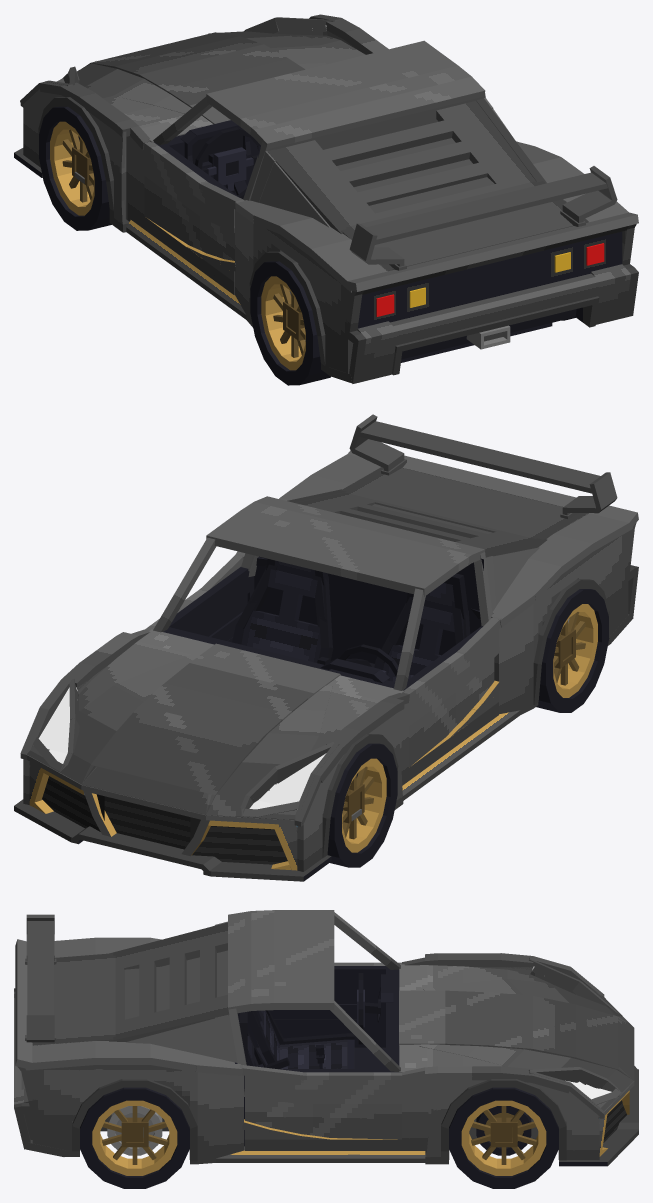
3 views of the same model, one above another, from view 1: azimuth 30°, elevation 25°; view 2: azimuth 150°, elevation 25°; view 3: azimuth 270°, elevation 25° (orthographic). The views are drawn at different scales.
Visible parts, largest first — view 1: min (×55), rightdoor (×5); view 2: min (×66), rightdoor (×5), leftdoor (×2); view 3: min (×66), leftdoor (×7), rightdoor (×4).
Boxes of the visible parts, <box> form: min (×55): <box>23,17,638,383</box>; rightdoor (×5): <box>144,141,234,290</box>; min (×66): <box>14,421,638,881</box>; rightdoor (×5): <box>403,629,498,775</box>; leftdoor (×2): <box>176,567,249,636</box>; min (×66): <box>15,910,638,1165</box>; leftdoor (×7): <box>242,1065,401,1146</box>; rightdoor (×4): <box>247,966,389,1040</box>.
Size of the model in its own units: 3.13 by 1.96 by 6.55.
1 material, 1 textured.
